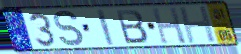3: (28, 10, 58, 48)
B: (114, 9, 149, 45)
H: (177, 5, 219, 45), (150, 6, 188, 45)
I: (95, 8, 116, 47)
S: (53, 9, 85, 48)
